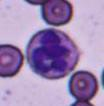N: (25, 28, 80, 80)
